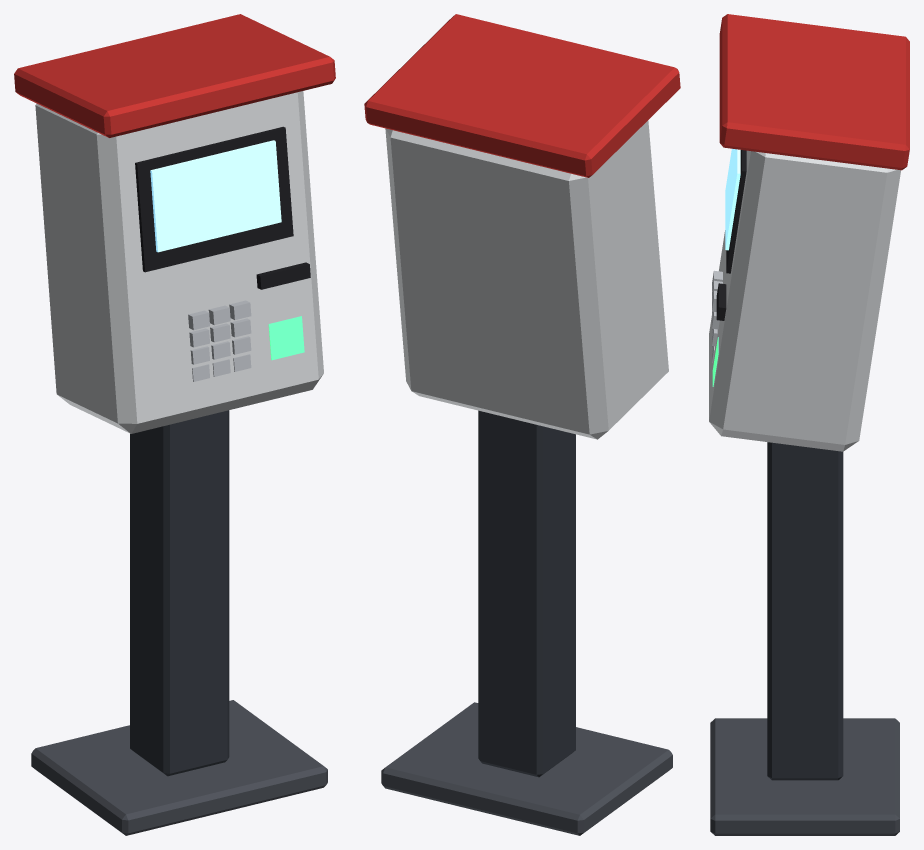
The model's file is Payment_Terminal_Post.glb.
3 renders of one model, left to right at view 1: azimuth 30°, elevation 25°; view 2: azimuth 150°, elevation 25°; view 3: azimuth 270°, elevation 25°, orthographic.
Parts seen in each view (by area): view 1: Payment_Terminal_Post; view 2: Payment_Terminal_Post; view 3: Payment_Terminal_Post.
Boxes of the visible parts, box(x1,y1,x2,y2) form: Payment_Terminal_Post: box(14, 14, 335, 835); Payment_Terminal_Post: box(364, 14, 680, 835); Payment_Terminal_Post: box(709, 14, 909, 835).
Bounding box in the file's own units: 0.56 × 1.68 × 0.4238.
1 material, 1 textured.
